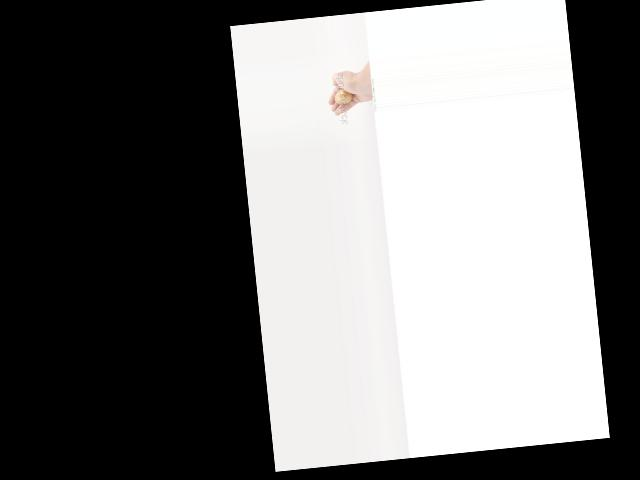egg: (334, 88, 353, 105)
